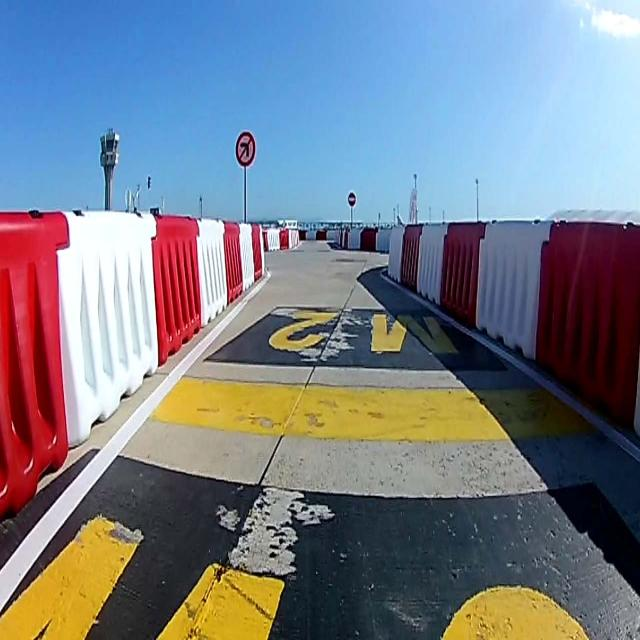girisyok: (348, 192, 356, 206)
soladonulmez: (234, 131, 256, 168)
